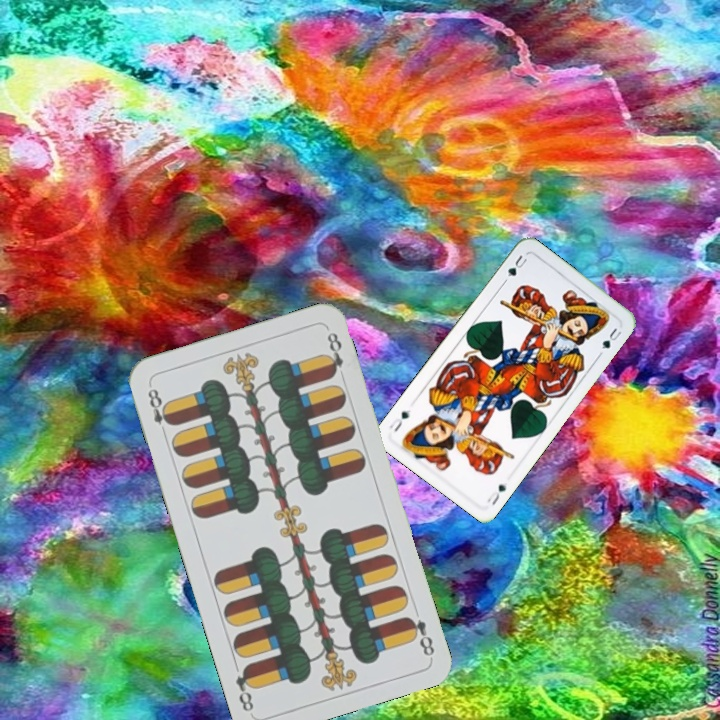E8: (143, 384, 176, 439), (402, 612, 437, 659)
GU: (500, 251, 530, 285), (483, 480, 509, 508)
